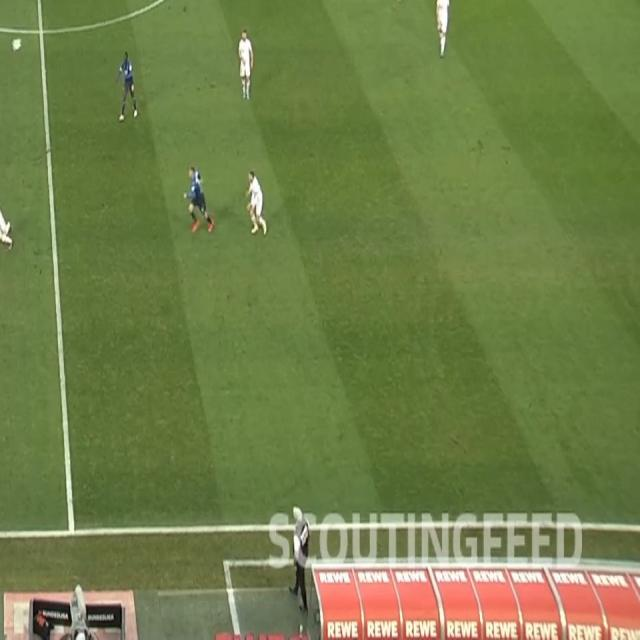ball: (11, 36, 22, 53)
